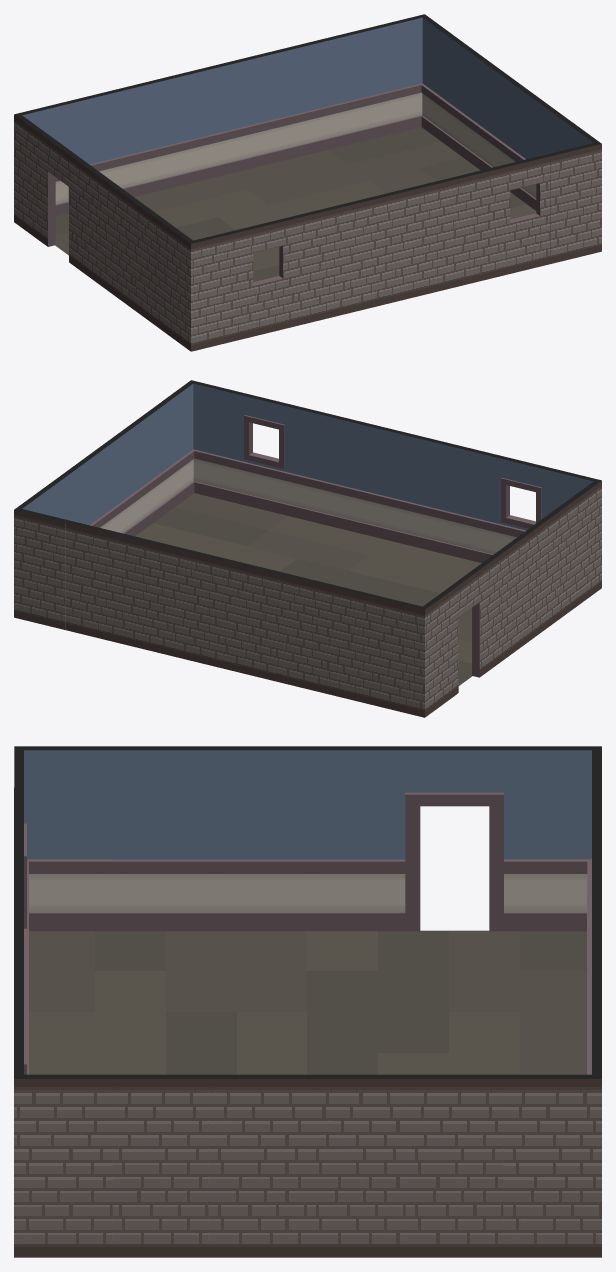
The model's file is new_room.glb.
3 views of the same model, one above another, from view 1: azimuth 30°, elevation 25°; view 2: azimuth 150°, elevation 25°; view 3: azimuth 270°, elevation 25° (orthographic). The views are drawn at different scales.
Parts seen in each view (by area): view 1: mesh_floor_2x2, mesh_wall_corner_mat_wall_inside_1_0.003, mesh_wall_corner_mat_wall_inside_1_0.001, mesh_wall_corner, mesh_wall_straight_mat_wall_inside_1_0.006, mesh_wall_straight_mat_wall_inside_1_0.007, mesh_wall_straight_mat_wall_inside_1_0.008, mesh_wall_straight_mat_wall_inside_1_0.009, mesh_wall_straight_mat_wall_inside_1_0.014, mesh_wall_straight_mat_wall_inside_1_0.015, mesh_wall_straight_mat_wall_inside_1_0.016, mesh_wall_straight_mat_wall_inside_1_0.005 (+13 smaller); view 2: mesh_floor_2x2, mesh_wall_corner_mat_wall_inside_1_0.002, mesh_wall_corner, mesh_wall_corner_mat_wall_inside_1_0.001, mesh_wall_straight_mat_wall_inside_1_0.016, mesh_wall_straight_mat_wall_inside_1_0.014, mesh_wall_straight_mat_wall_inside_1_0.006, mesh_wall_straight_mat_wall_inside_1_0.008, mesh_wall_straight_mat_wall_inside_1_0.015, mesh_wall_straight_mat_wall_inside_1_0.007, mesh_wall_straight_mat_wall_inside_1_0.005, mesh_wall_straight_mat_wall_inside_1_0.009 (+13 smaller); view 3: mesh_floor_2x2, mesh_wall_corner, mesh_wall_corner_mat_wall_inside_1_0.001, mesh_wall_straight_mat_wall_inside_1_0.002, mesh_wall_straight, mesh_wall_straight_mat_wall_inside_1_0.001, mesh_wall_straight_mat_wall_inside_1_0.010, mesh_wall_straight_mat_wall_inside_1_0.011, mesh_wall_straight_mat_wall_inside_1_0.003, mesh_wall_straight_mat_wall_inside_1_0.012, mesh_wall_corner_mat_wall_inside_1_0.002, mesh_wall_corner_mat_wall_inside_1_0.003 (+2 smaller).
Boxes of the visible parts, x1,y1,x2,y2 form: mesh_floor_2x2: (55,127,536,281); mesh_wall_corner_mat_wall_inside_1_0.003: (161,221,242,351); mesh_wall_corner_mat_wall_inside_1_0.001: (373,14,453,144); mesh_wall_corner: (548,122,601,263); mesh_wall_straight_mat_wall_inside_1_0.006: (168,64,223,187); mesh_wall_straight_mat_wall_inside_1_0.007: (219,52,274,175); mesh_wall_straight_mat_wall_inside_1_0.008: (271,39,326,162); mesh_wall_straight_mat_wall_inside_1_0.009: (322,27,377,150); mesh_wall_straight_mat_wall_inside_1_0.014: (342,192,396,314); mesh_wall_straight_mat_wall_inside_1_0.015: (394,179,447,301); mesh_wall_straight_mat_wall_inside_1_0.016: (445,166,499,288); mesh_wall_straight_mat_wall_inside_1_0.005: (117,77,171,196); mesh_floor_2x2: (135,493,481,685); mesh_wall_corner_mat_wall_inside_1_0.002: (373,587,454,717); mesh_wall_corner: (162,380,241,510); mesh_wall_corner_mat_wall_inside_1_0.001: (14,488,67,629); mesh_wall_straight_mat_wall_inside_1_0.016: (289,405,344,528); mesh_wall_straight_mat_wall_inside_1_0.014: (392,430,447,553); mesh_wall_straight_mat_wall_inside_1_0.006: (219,558,273,680); mesh_wall_straight_mat_wall_inside_1_0.008: (116,533,170,654); mesh_wall_straight_mat_wall_inside_1_0.015: (340,417,395,541); mesh_wall_straight_mat_wall_inside_1_0.007: (168,545,222,667); mesh_wall_straight_mat_wall_inside_1_0.005: (271,570,324,692); mesh_wall_straight_mat_wall_inside_1_0.009: (65,520,119,642); mesh_floor_2x2: (29,930,586,1074); mesh_wall_corner: (14,1037,112,1257); mesh_wall_corner_mat_wall_inside_1_0.001: (503,1037,601,1257); mesh_wall_straight_mat_wall_inside_1_0.002: (111,746,210,931); mesh_wall_straight: (307,746,405,931); mesh_wall_straight_mat_wall_inside_1_0.001: (210,746,308,931); mesh_wall_straight_mat_wall_inside_1_0.010: (307,1074,405,1257); mesh_wall_straight_mat_wall_inside_1_0.011: (208,1074,306,1257); mesh_wall_straight_mat_wall_inside_1_0.003: (405,1074,504,1257); mesh_wall_straight_mat_wall_inside_1_0.012: (109,1074,208,1257); mesh_wall_corner_mat_wall_inside_1_0.002: (503,746,601,931); mesh_wall_corner_mat_wall_inside_1_0.003: (14,746,112,931).
Size of the model in its own units: 79.8 by 20 by 59.6.
43 materials, 43 textured.
